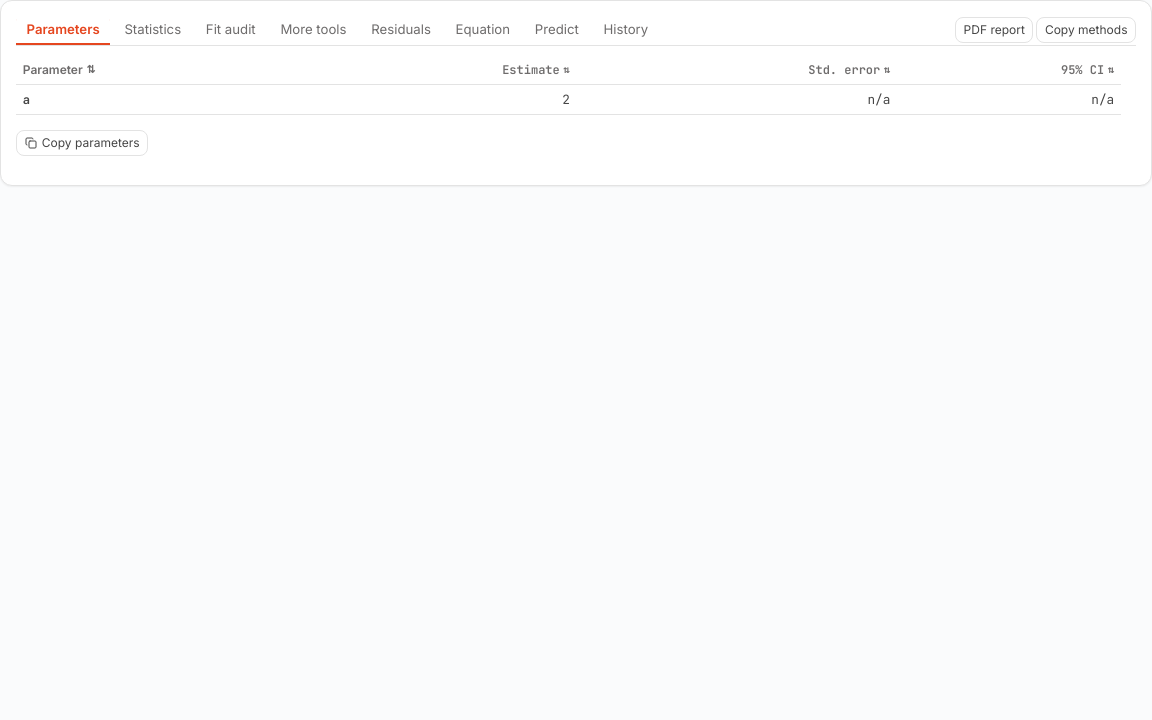
Scenario: Copy methods › shows the document with Select all when the clipboard refuses, and does not say Copied
The image size is (1152, 720).
Later steps or results of the test are not shown.
Click the button "Copy methods" at (1086, 30), box [1036,17,1136,43]
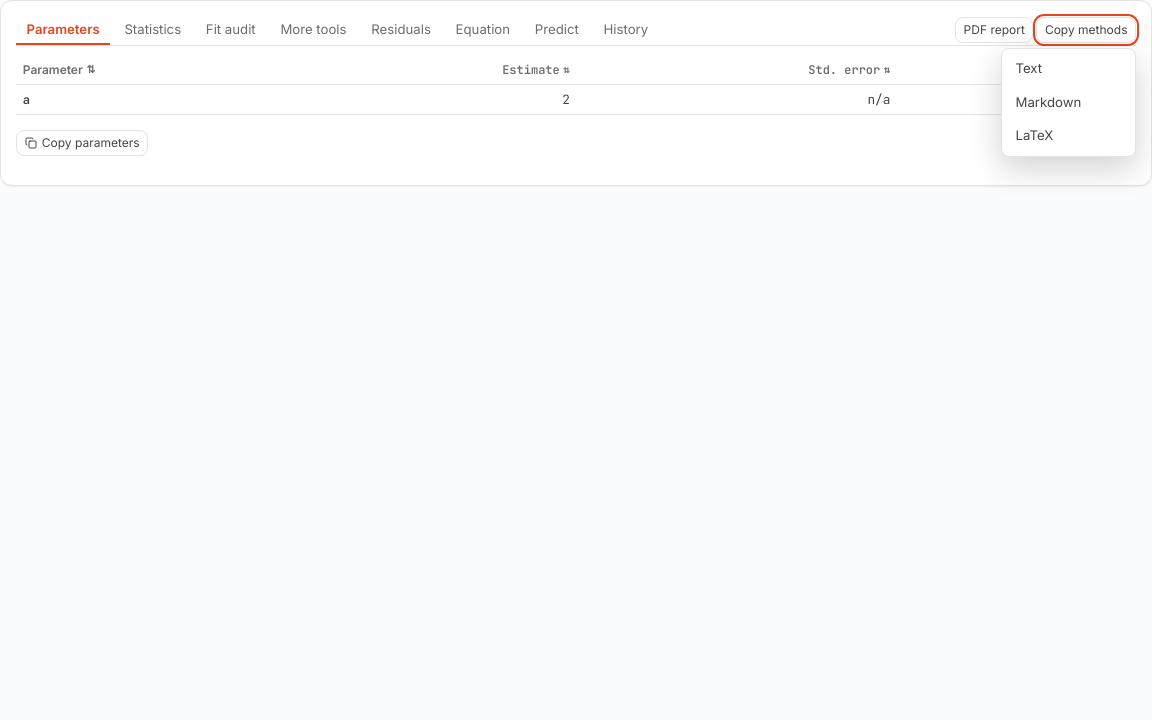
Click the button "LaTeX" at (1068, 136), box [1006,120,1130,152]
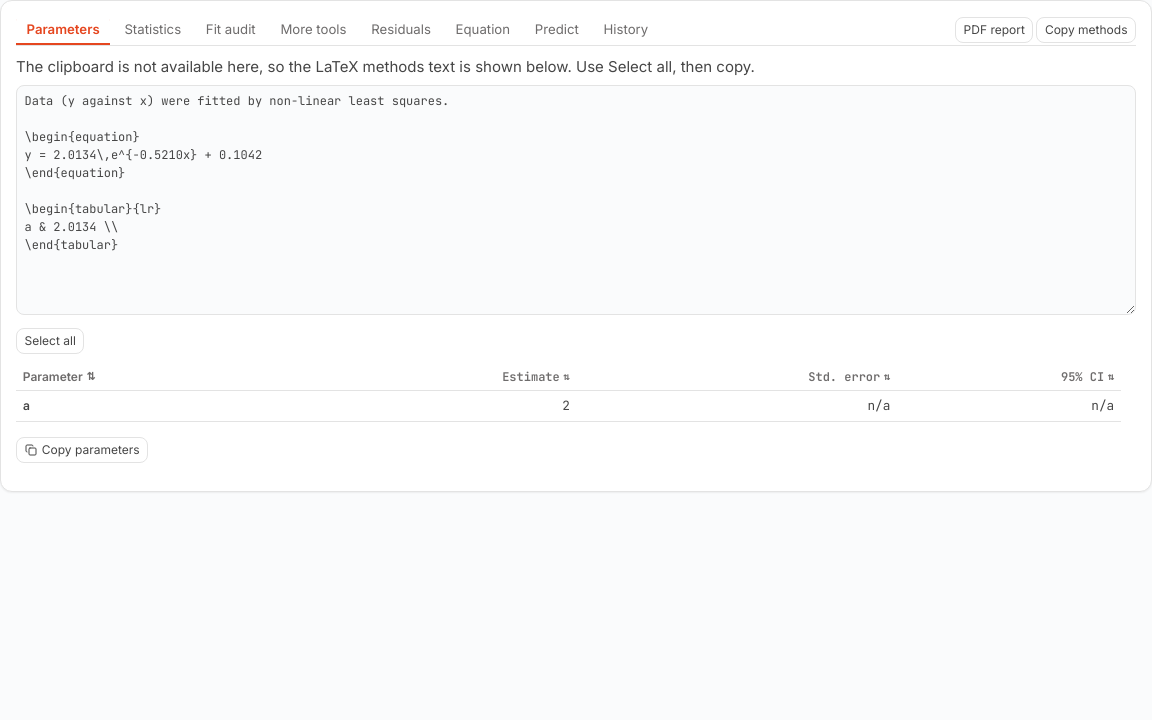
Check: the text "The clipboard is not available here, so the LaTeX methods text is shown below. Use Select all, then copy." is shown, box [16,57,755,76]
